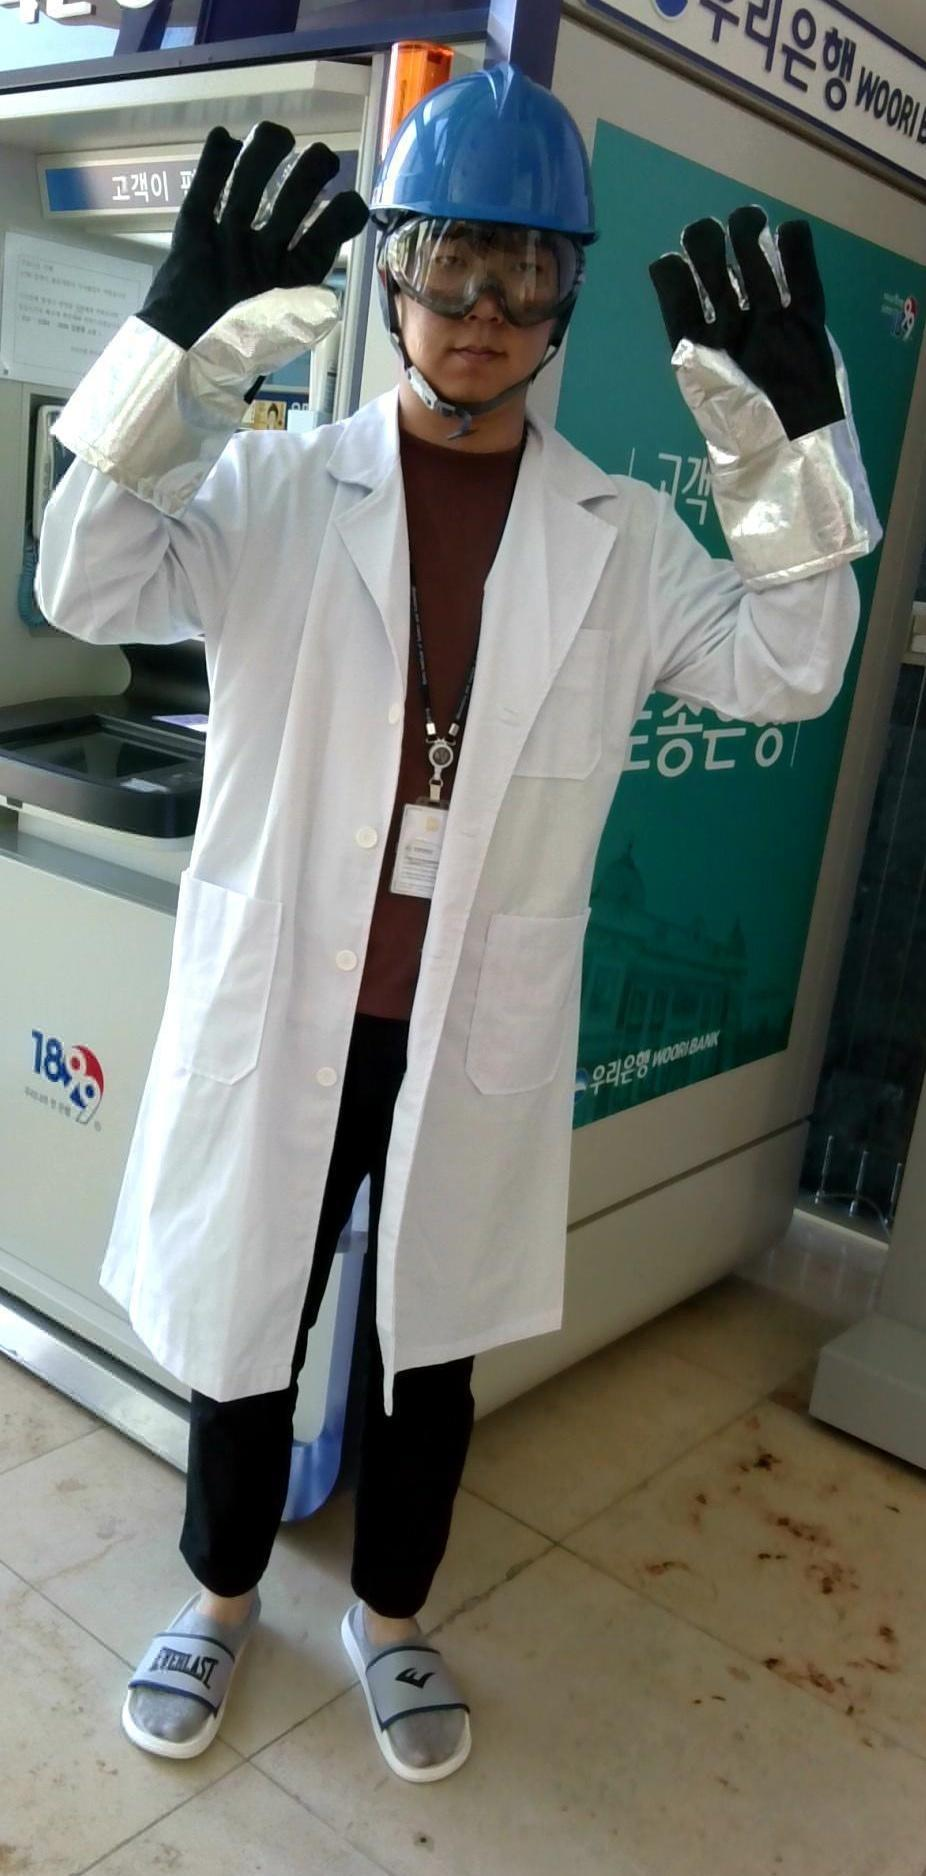lab_coat: (163, 491, 625, 1332)
